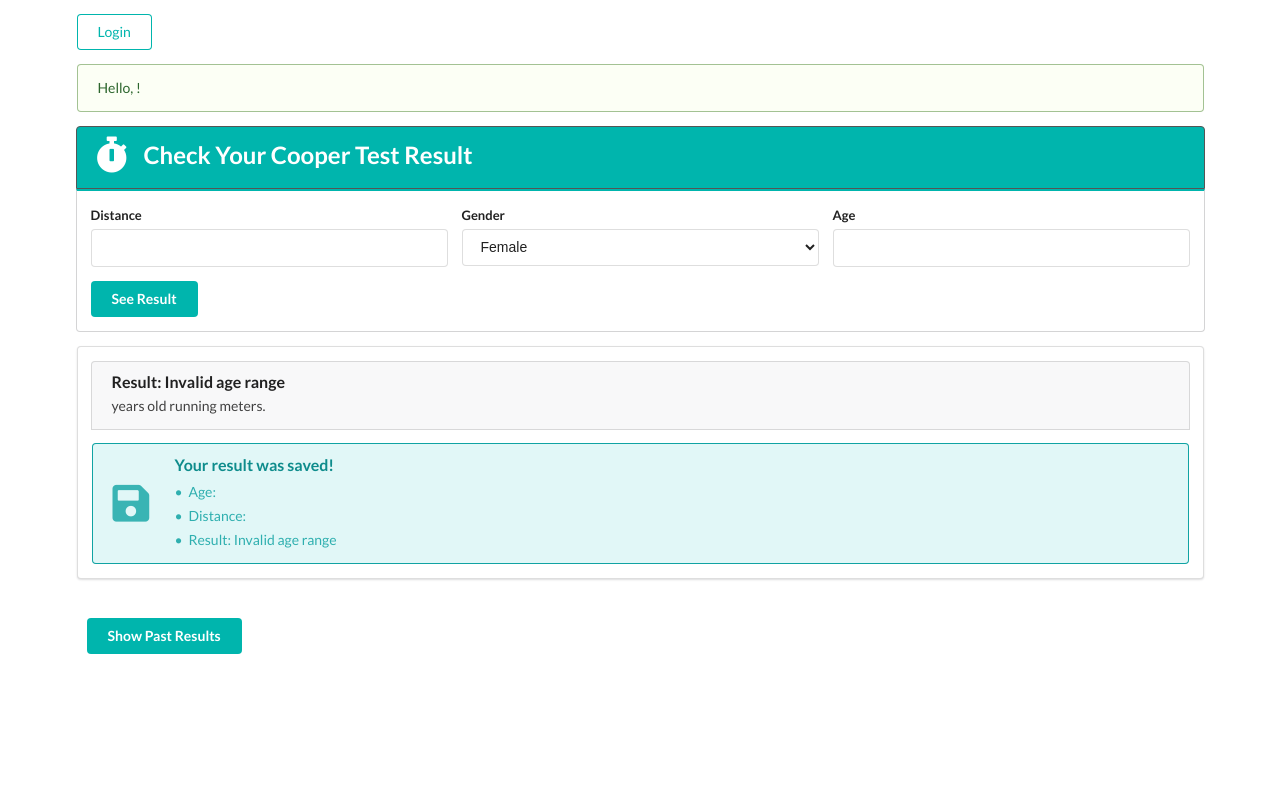
Scenario: User can see past results › successfully
Click the button with test id "btn-login" at (115, 32), box [77, 14, 152, 50]
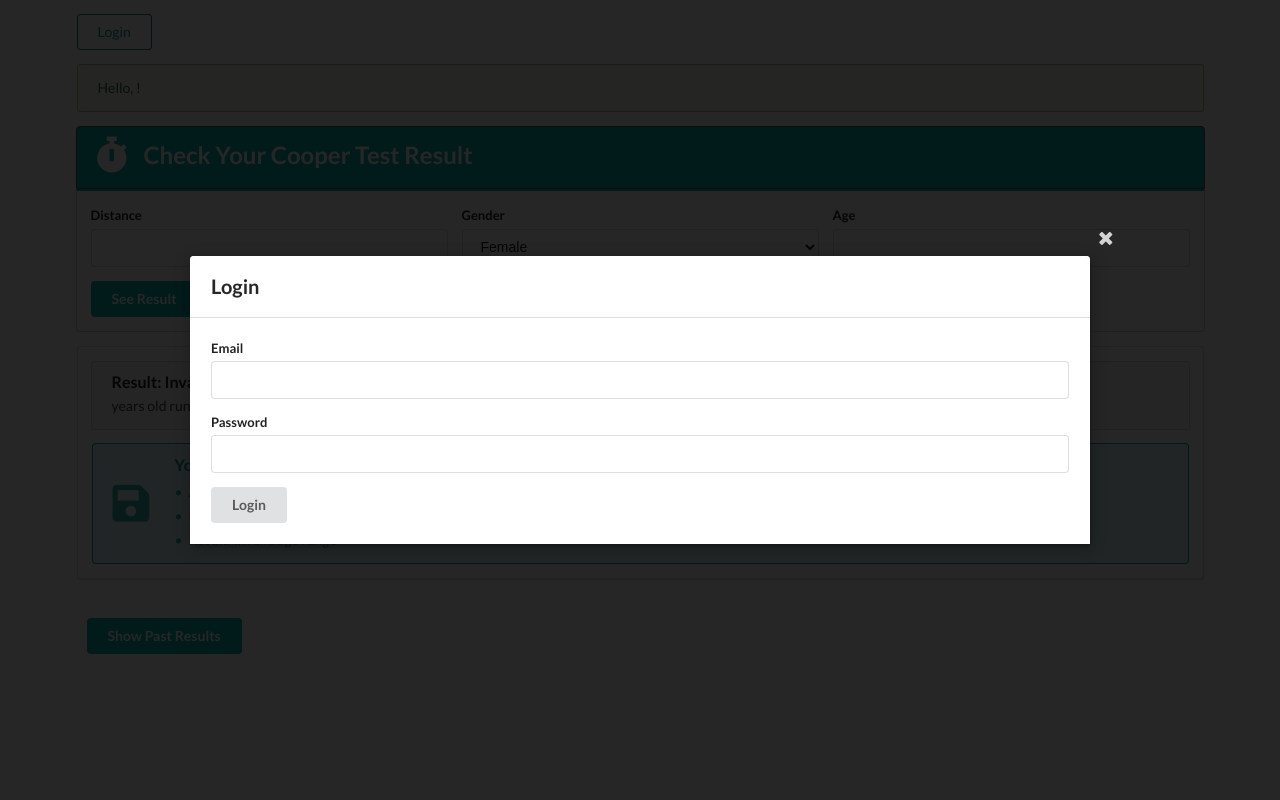
Type "user@test.com" into the element with test id "input-email" at (640, 380), box [211, 361, 1069, 399]
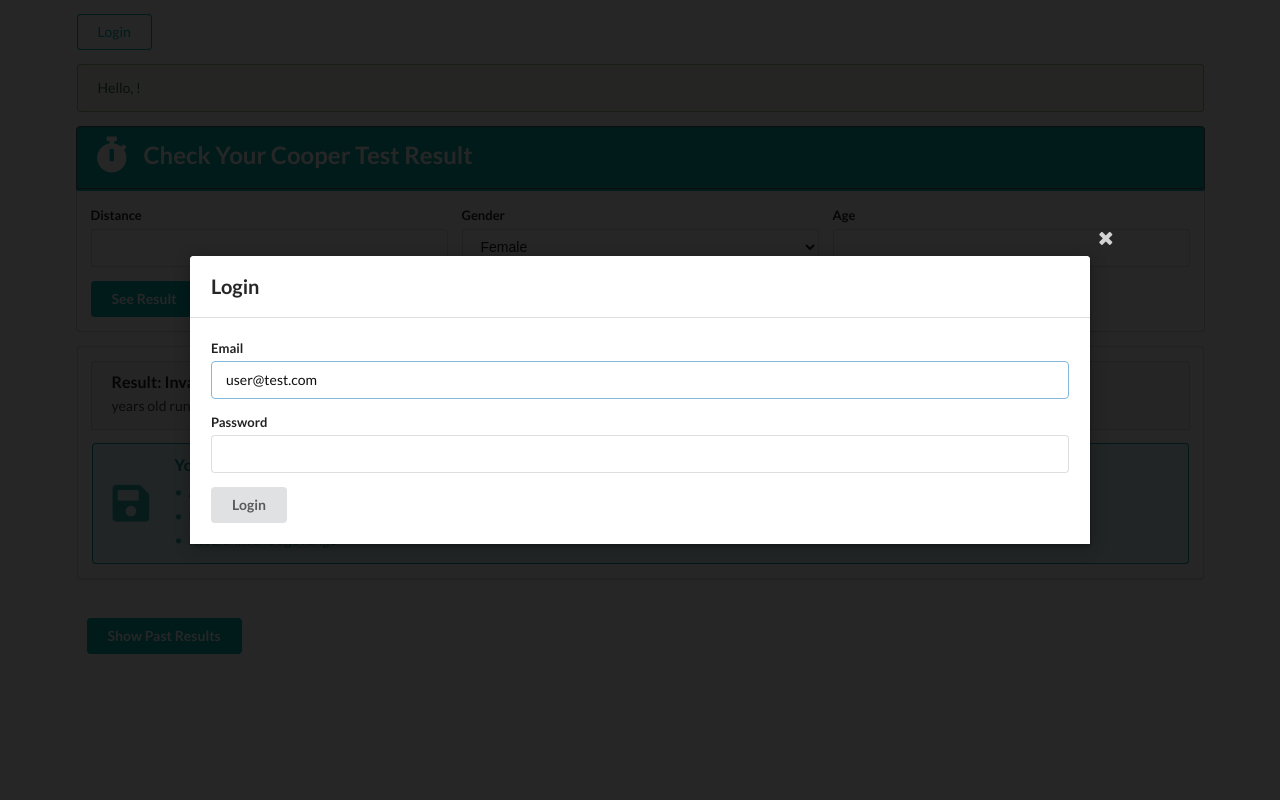
Type "password" into the element with test id "input-password" at (640, 454), box [211, 435, 1069, 473]
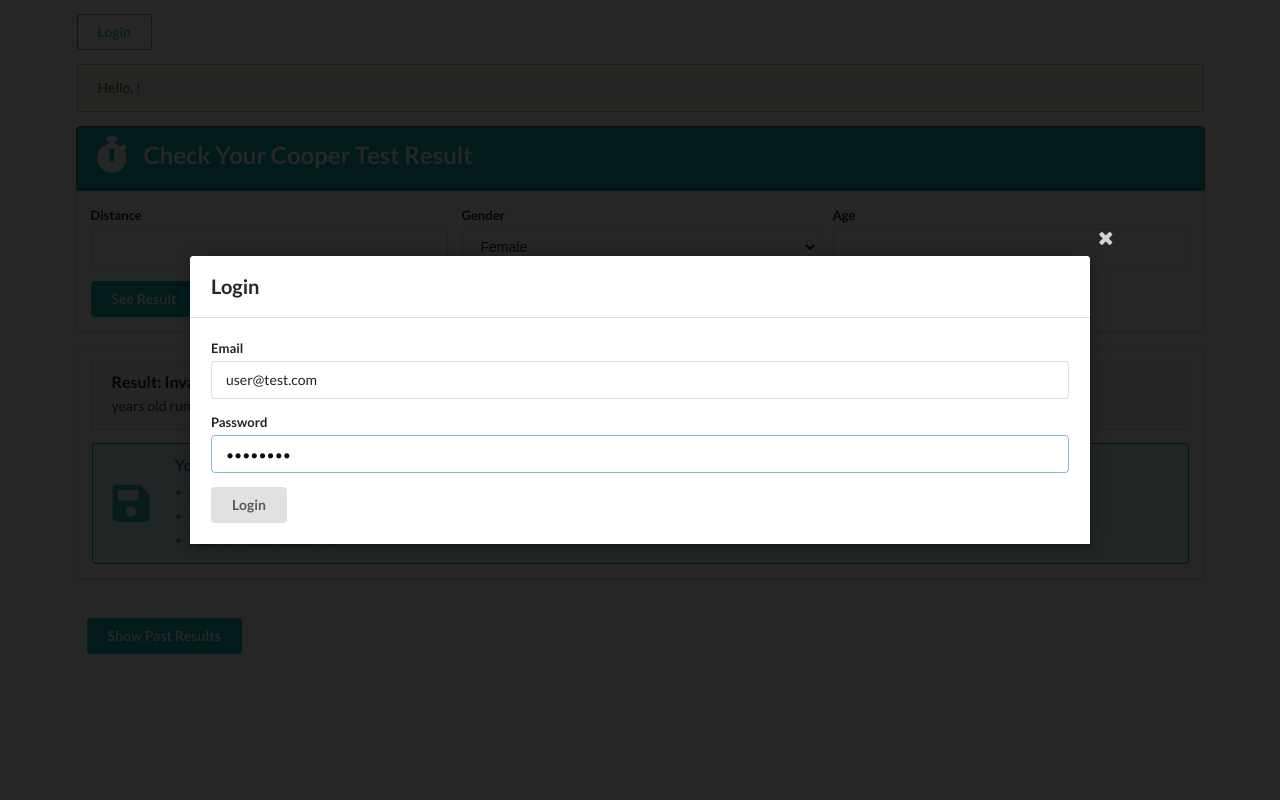
Click the button with test id "btn-login-submit" at (249, 505), box [211, 487, 287, 523]
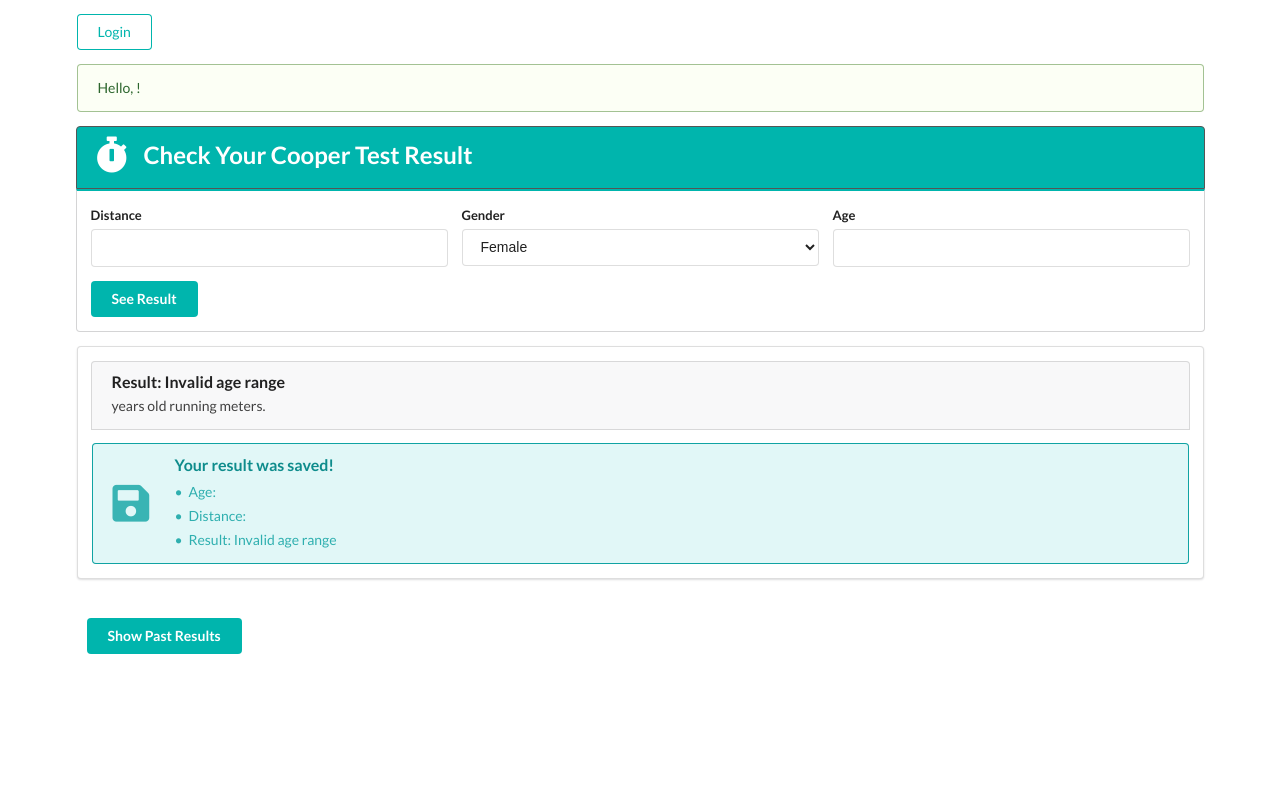
Click the button with test id "btn-show-index" at (165, 636), box [87, 618, 242, 654]
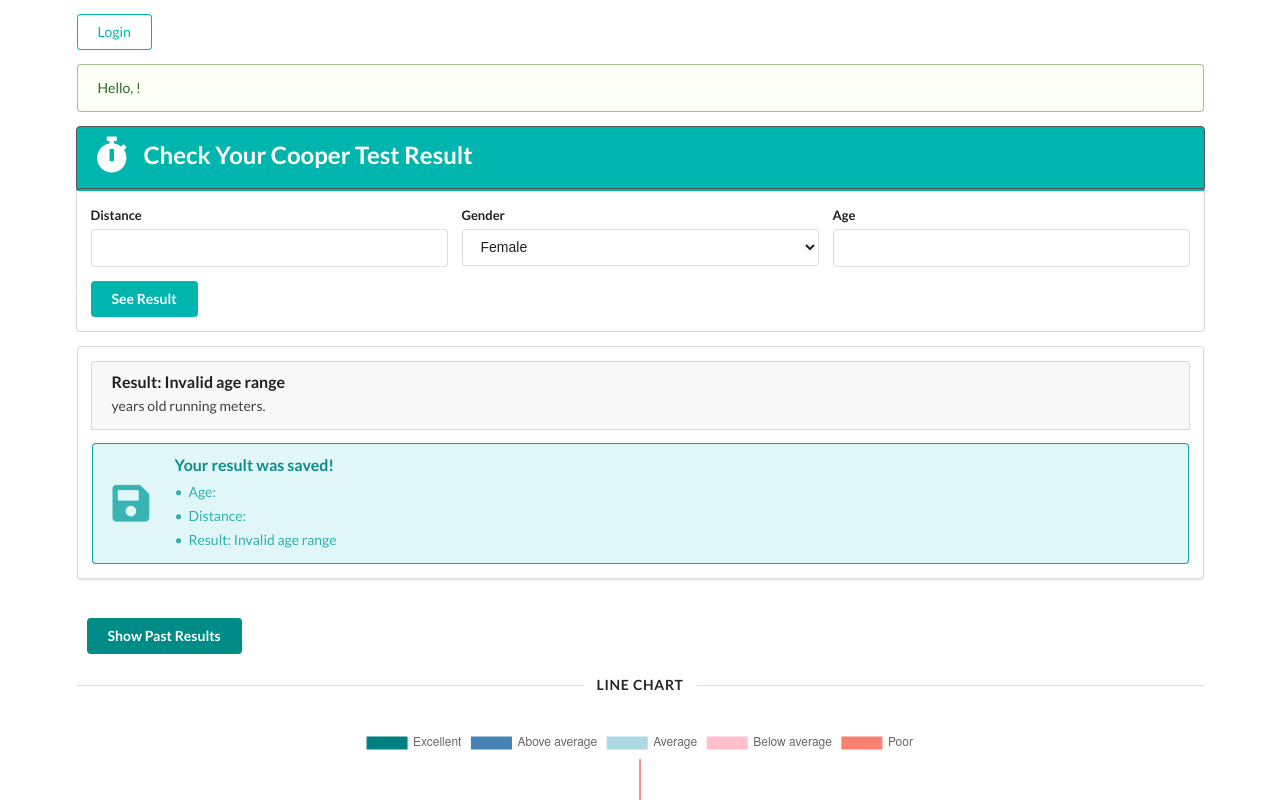
Expected: the element with test id "doughnut-graph" is shown, [290, 727, 990, 799]
